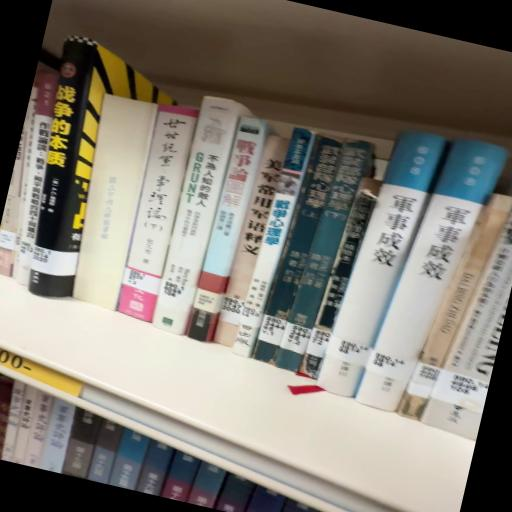backward: (61, 93, 165, 313)
book: (355, 133, 507, 428), (312, 122, 448, 410), (13, 46, 127, 303), (151, 100, 250, 345), (184, 114, 273, 352), (109, 101, 202, 328)
